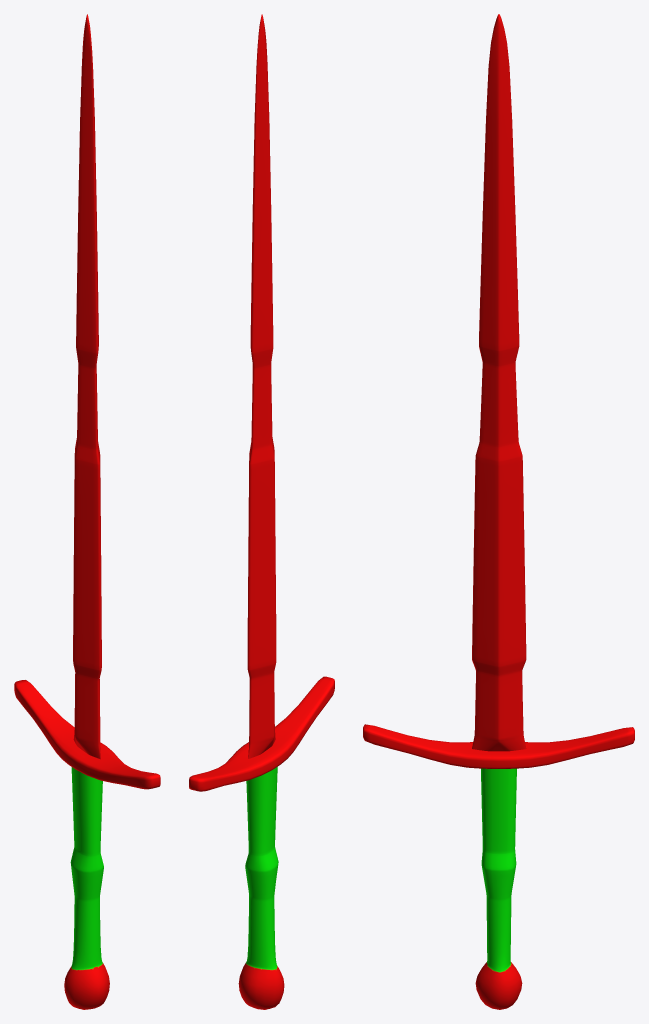
File: SM_Medieval_Weapons_Panzerbrecher.fbx
3 views of the same model, side by side, from view 1: azimuth 30°, elevation 25°; view 2: azimuth 150°, elevation 25°; view 3: azimuth 270°, elevation 25° (orthographic).
Visible parts, largest first — view 1: SM_Medieval_Weapons_Panzerbrecher; view 2: SM_Medieval_Weapons_Panzerbrecher; view 3: SM_Medieval_Weapons_Panzerbrecher.
Boxes of the visible parts, <box> form: SM_Medieval_Weapons_Panzerbrecher: <box>14,14,160,1009</box>; SM_Medieval_Weapons_Panzerbrecher: <box>189,14,334,1009</box>; SM_Medieval_Weapons_Panzerbrecher: <box>363,14,634,1009</box>.
Size of the model in its own units: 5.43 by 30.33 by 122.
